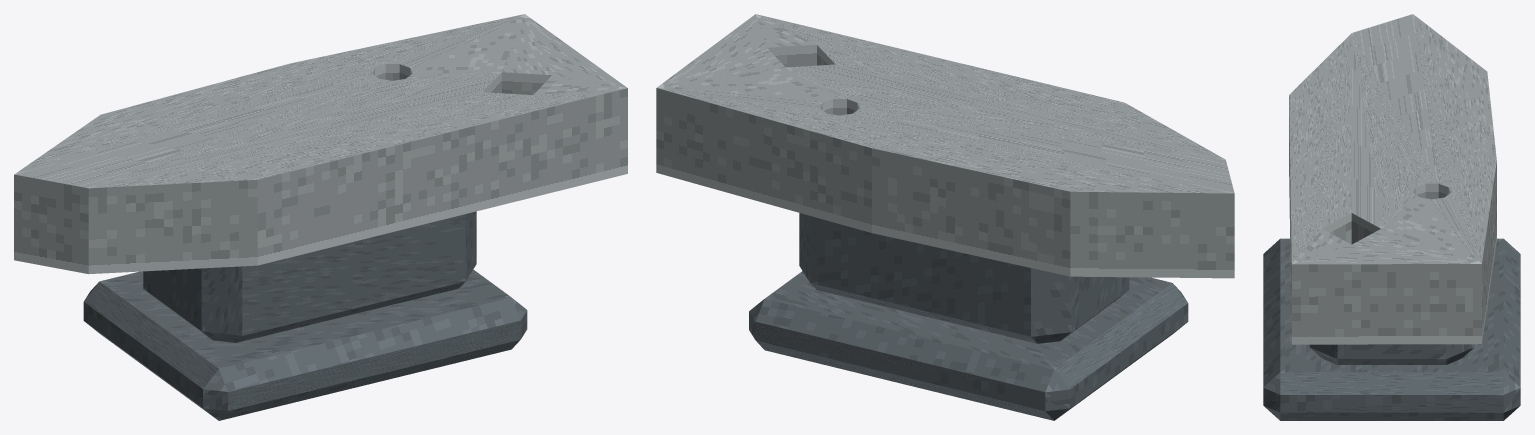
The model's file is anvil.glb.
3 views of the same model, side by side, from view 1: azimuth 30°, elevation 25°; view 2: azimuth 150°, elevation 25°; view 3: azimuth 270°, elevation 25° (orthographic). The views are drawn at different scales.
Visible parts, largest first — view 1: block_anvil face and long horn, block_anvil foot, block_solid anvil waist; view 2: block_anvil face and long horn, block_anvil foot, block_solid anvil waist; view 3: block_anvil face and long horn, block_anvil foot, block_solid anvil waist.
Boxes of the visible parts, x1,y1,x2,y2 form: block_anvil face and long horn: (14, 14, 627, 274); block_anvil foot: (83, 269, 527, 420); block_solid anvil waist: (143, 211, 476, 342); block_anvil face and long horn: (656, 14, 1234, 278); block_anvil foot: (749, 271, 1188, 420); block_solid anvil waist: (799, 213, 1129, 343); block_anvil face and long horn: (1289, 14, 1496, 344); block_anvil foot: (1263, 238, 1520, 420); block_solid anvil waist: (1309, 344, 1474, 364).
Bounding box in the file's own units: 0.4373 × 0.1729 × 0.19.
Materials: 1 (1 with a texture image).
